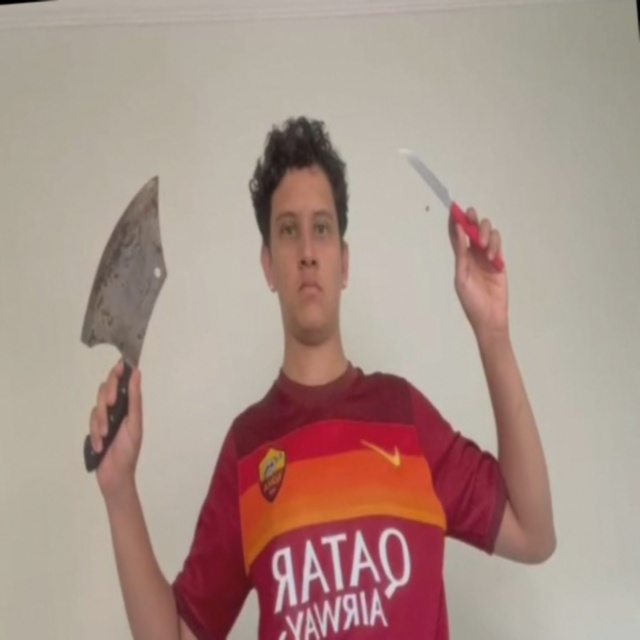Sharp-Object: (64, 175, 175, 357), (396, 140, 454, 212)
